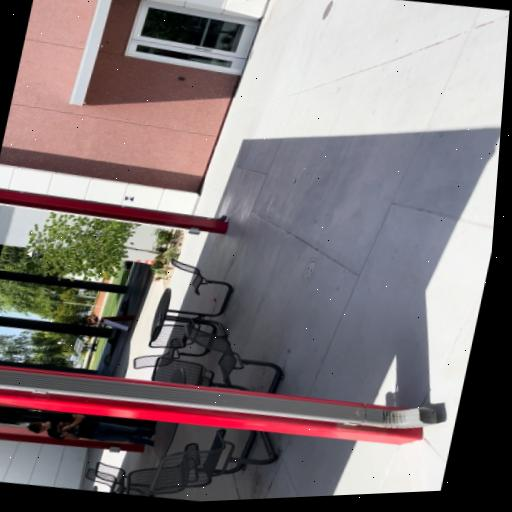target2: (124, 196, 134, 202)
